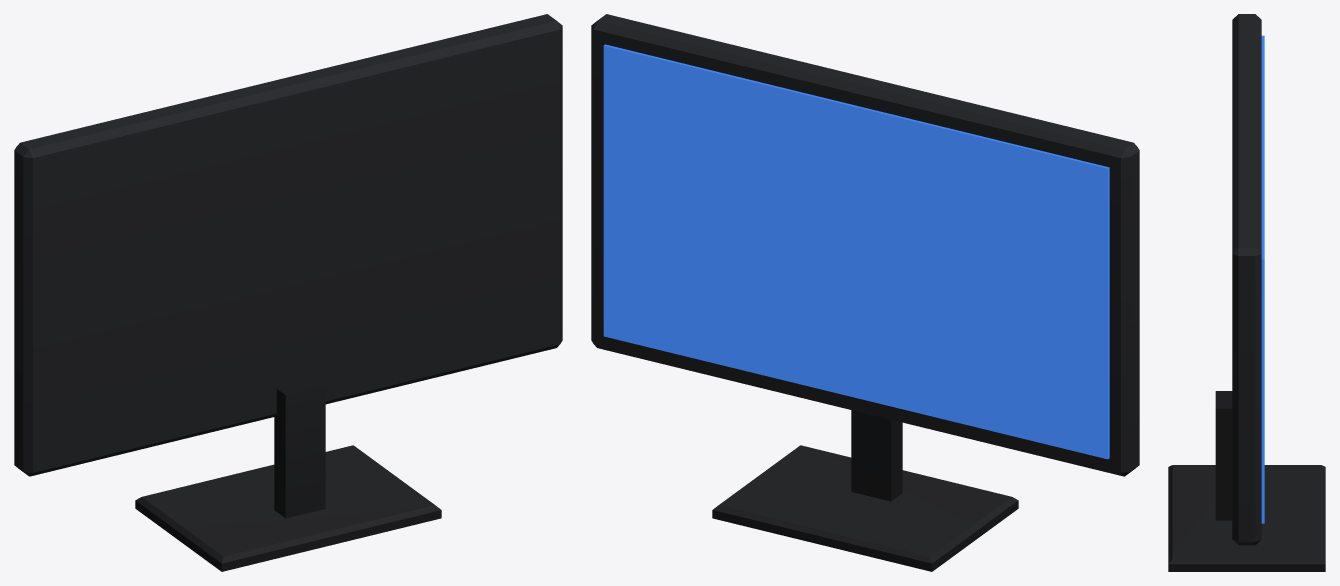
Rendered from monitor_01.glb.
3 renders of one model, left to right at view 1: azimuth 30°, elevation 25°; view 2: azimuth 150°, elevation 25°; view 3: azimuth 270°, elevation 25°, orthographic. The views are drawn at different scales.
Parts seen in each view (by area): view 1: monitor_01_mesh; view 2: monitor_01_screen, monitor_01_mesh; view 3: monitor_01_mesh, monitor_01_screen.
Boxes of the visible parts, box(x1,y1,x2,y2) form: monitor_01_mesh: box(14, 14, 562, 571); monitor_01_screen: box(603, 44, 1109, 459); monitor_01_mesh: box(591, 14, 1139, 571); monitor_01_mesh: box(1168, 14, 1325, 571); monitor_01_screen: box(1261, 35, 1264, 523).
Size of the model in its own units: 0.54 by 0.4132 by 0.15.
Materials: 2 (2 with a texture image).
